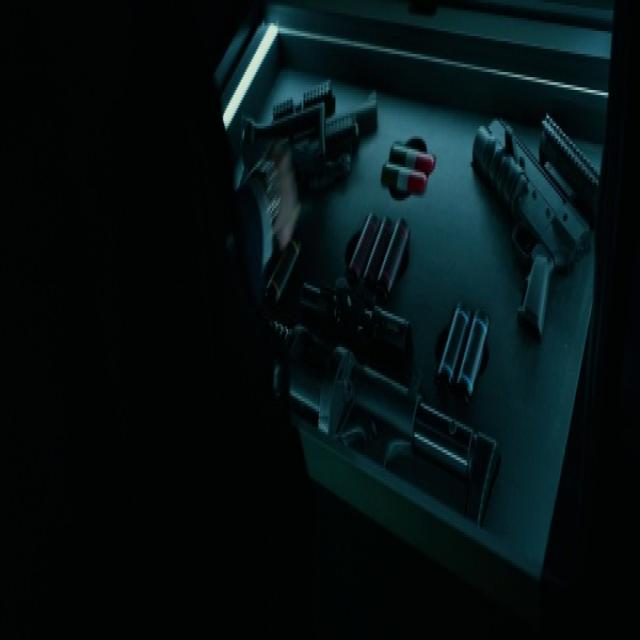rifle: (470, 99, 606, 352)
